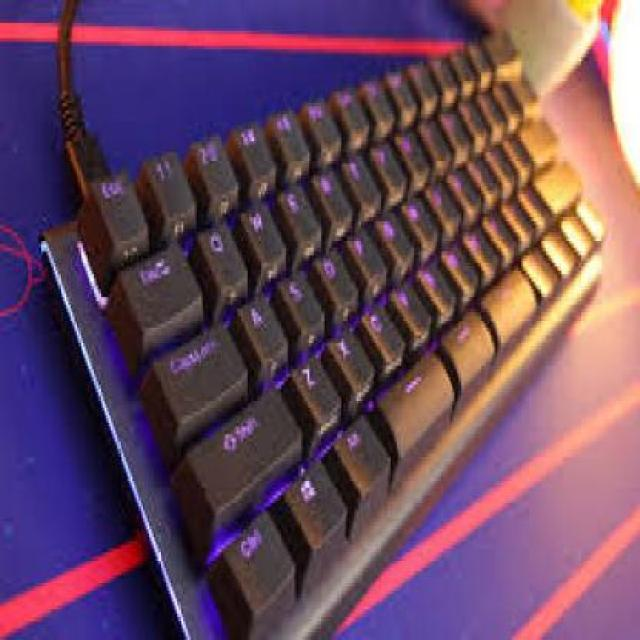keyboard: (46, 23, 613, 640)
